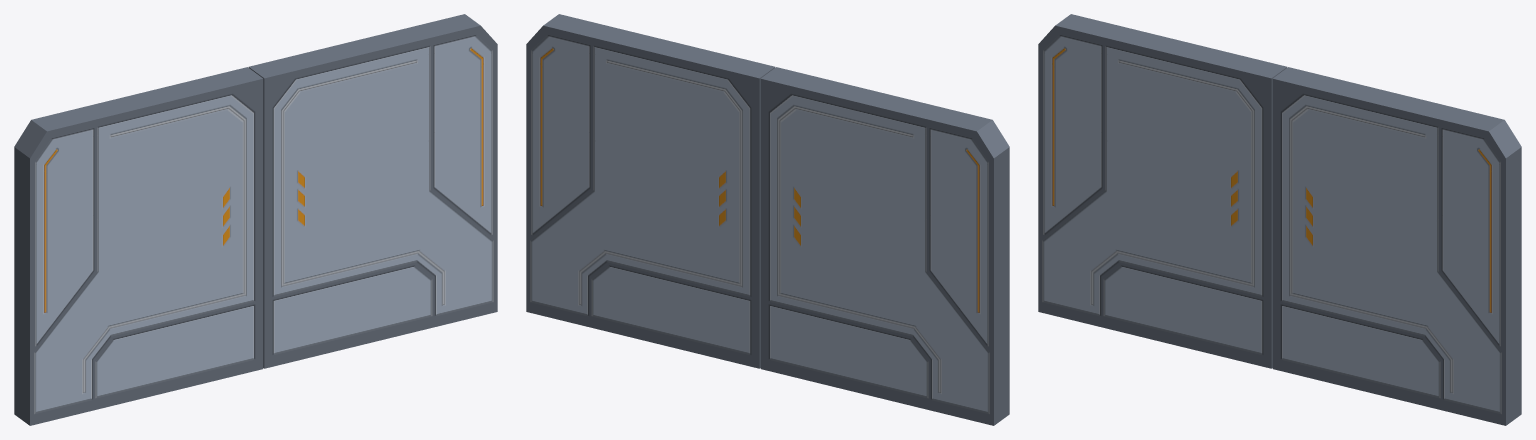
Rendered from papanpintu6m.dae.
The picture shows the model from 3 angles, left to right: view 1: azimuth 30°, elevation 25°; view 2: azimuth 150°, elevation 25°; view 3: azimuth 330°, elevation 25°; orthographic projection.
Parts seen in each view (by area): view 1: Cube.072, Cube.024; view 2: Cube.072, Cube.024; view 3: Cube.024, Cube.072.
Part boxes in pixels (left/top/right/bottom): Cube.072: left=14, top=67, right=263, bottom=425; Cube.024: left=248, top=14, right=497, bottom=368; Cube.072: left=760, top=67, right=1009, bottom=425; Cube.024: left=526, top=14, right=775, bottom=368; Cube.024: left=1272, top=67, right=1521, bottom=425; Cube.072: left=1038, top=14, right=1287, bottom=368.
Size of the model in its own units: 3.67 by 0.2158 by 2.17.
